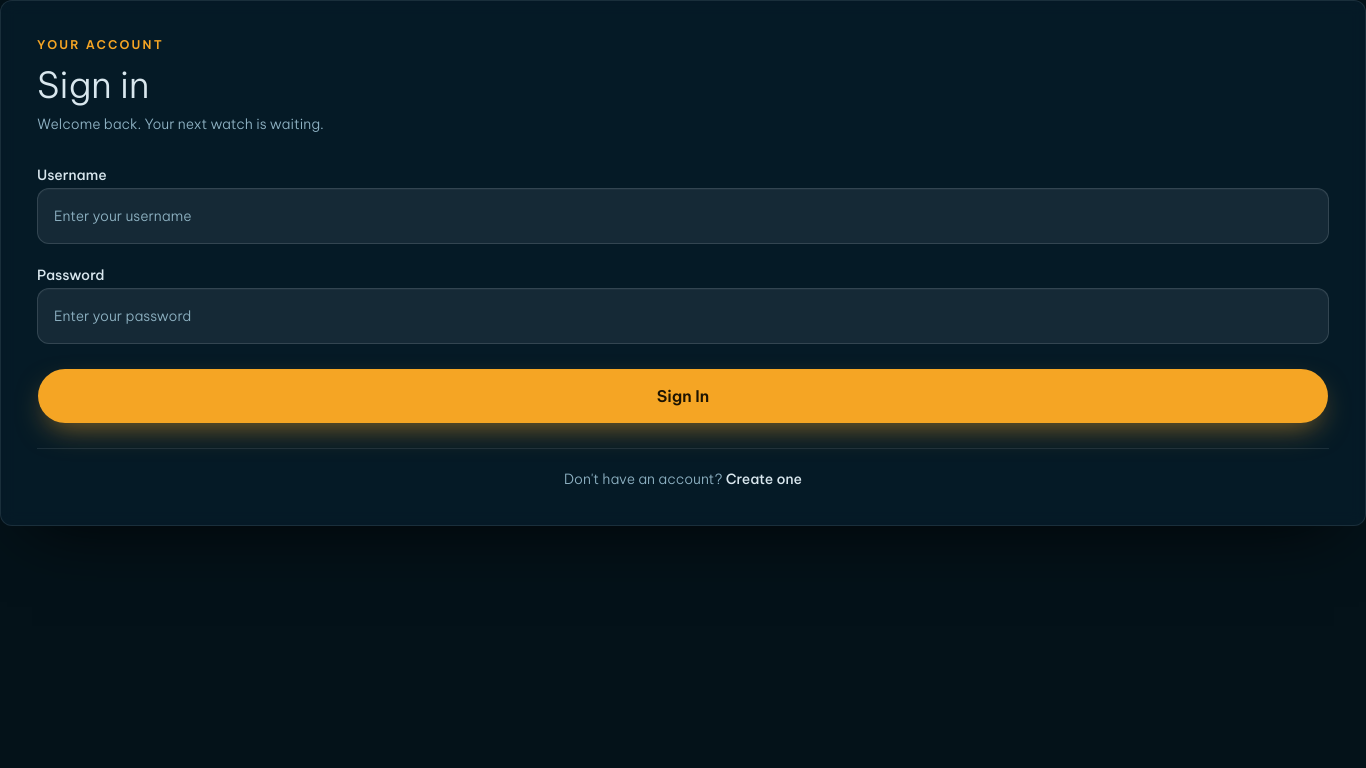
Test: LoginForm › shows the API error envelope message on failed login
Type "someuser" into the field labelled "Username" at (683, 216), box x1=37 y1=188 x2=1329 y2=244
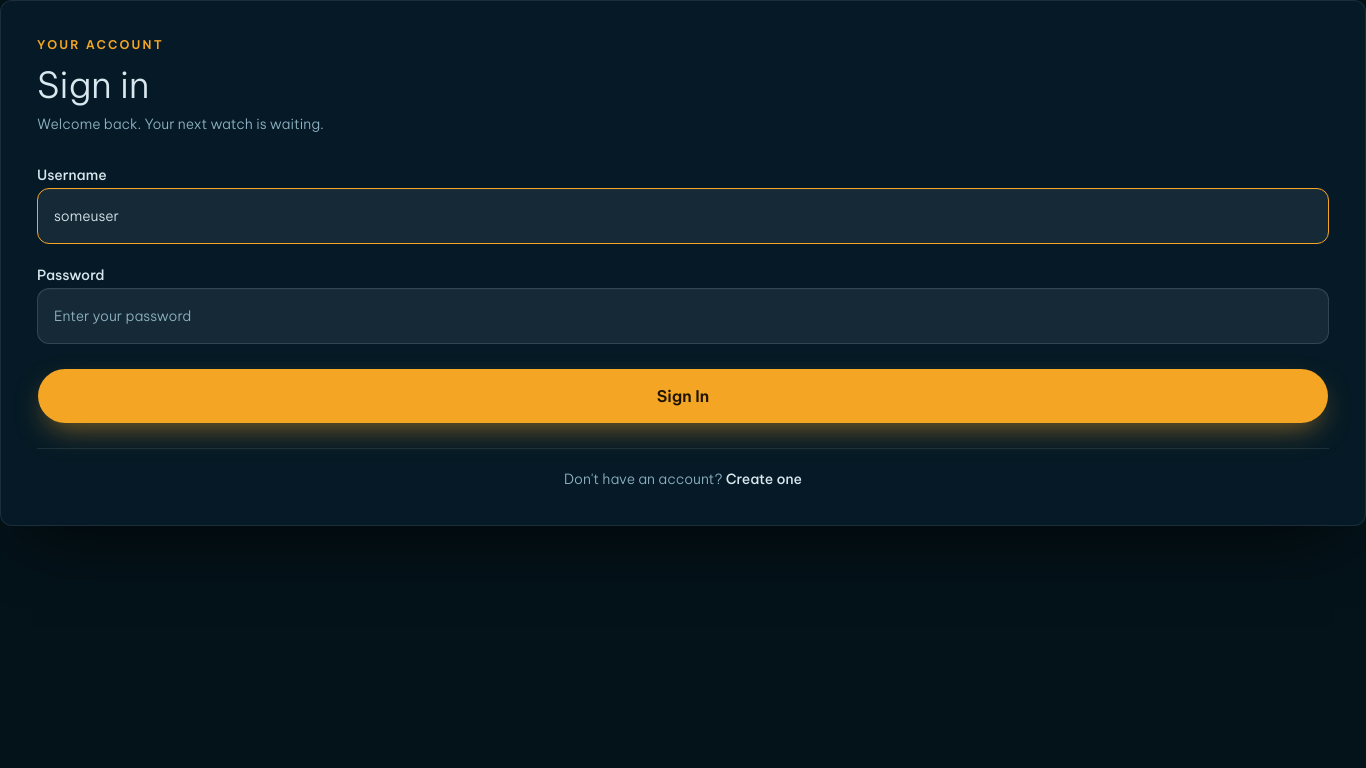
Type "wrongpass" into the password field labelled "Password" at (683, 316), box x1=37 y1=288 x2=1329 y2=344
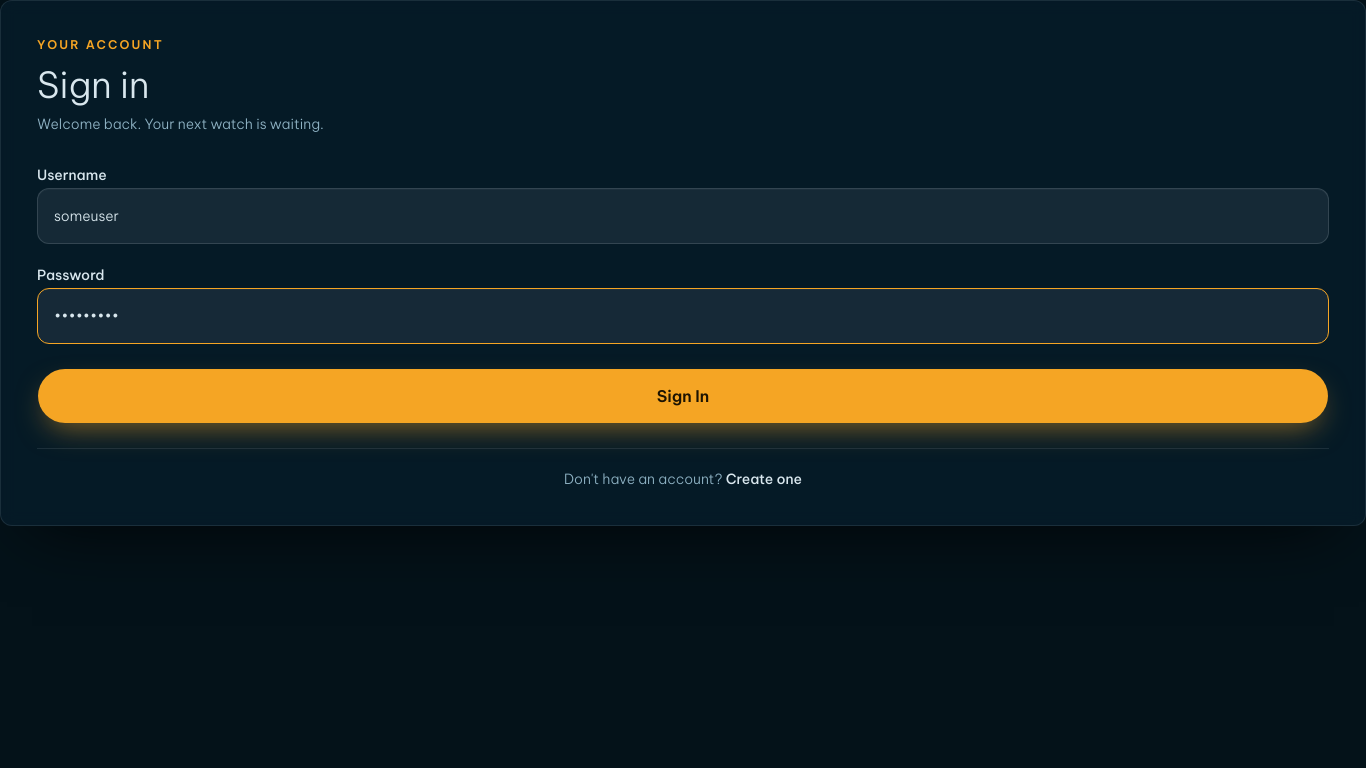
Click the button "Sign In" at (683, 396), box x1=37 y1=368 x2=1329 y2=424
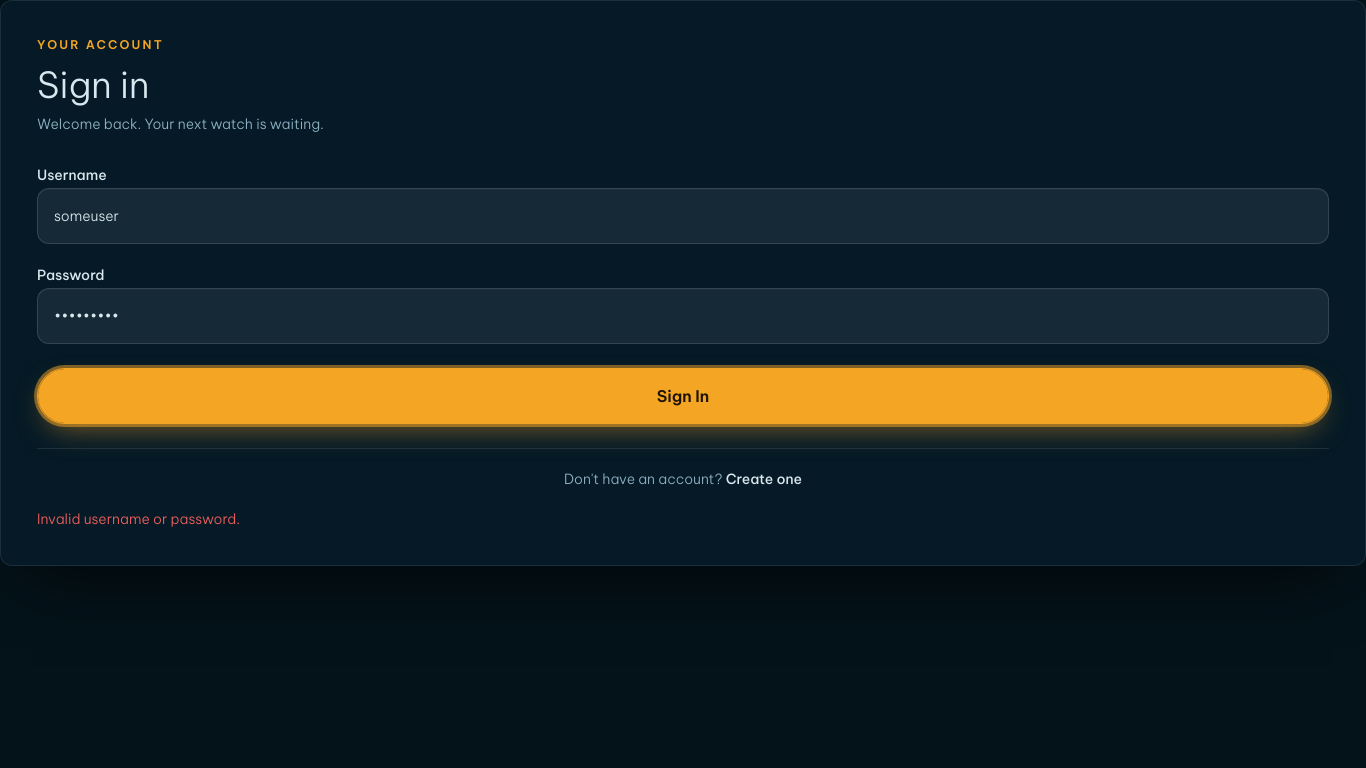
Result: the message reads "Invalid username or password." at x1=37 y1=510 x2=240 y2=528
